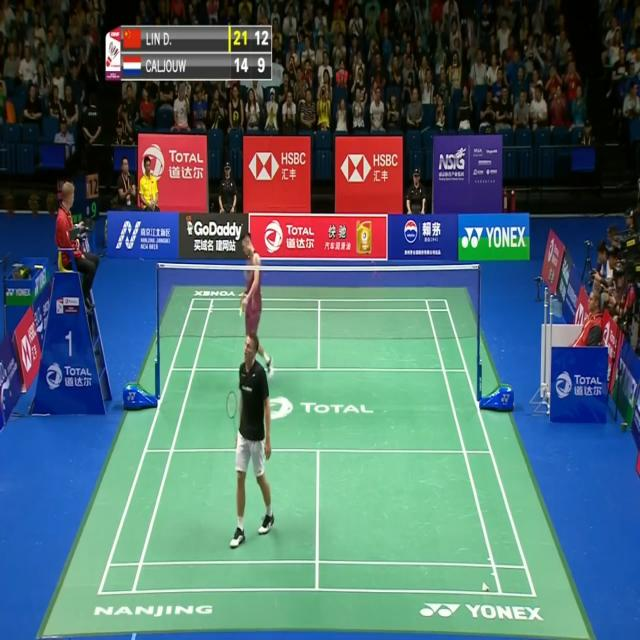Player1: (226, 332, 278, 556)
Player2: (226, 223, 276, 373)
